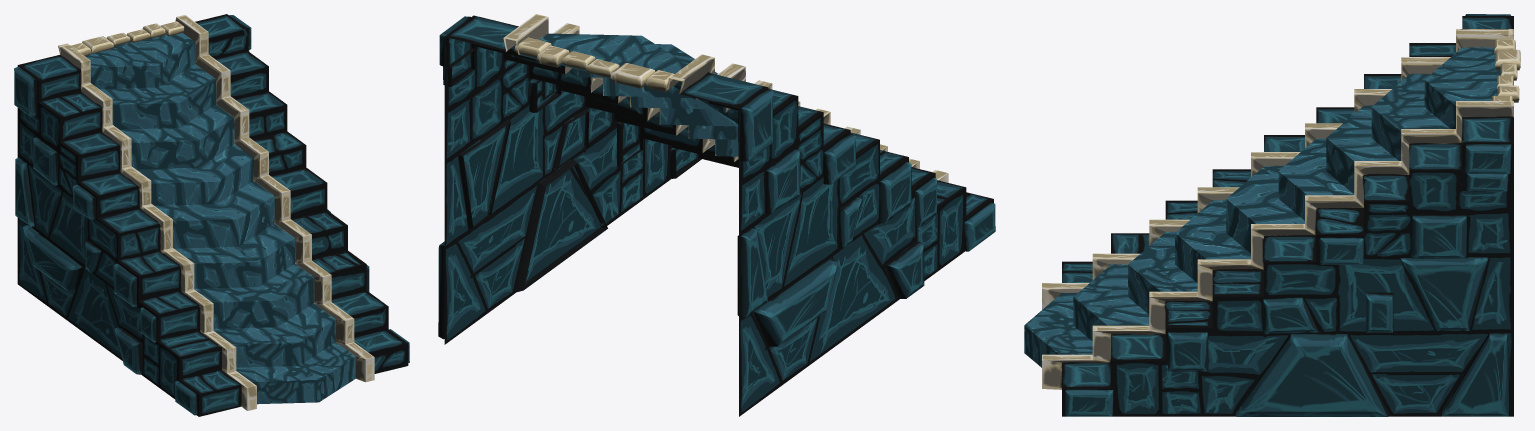
File: new_basic_stairs.fbx
The picture shows the model from 3 angles, left to right: view 1: azimuth 30°, elevation 25°; view 2: azimuth 150°, elevation 25°; view 3: azimuth 270°, elevation 25°; orthographic projection. The views are drawn at different scales.
Visible parts, largest first — view 1: new_basic_stairs; view 2: new_basic_stairs; view 3: new_basic_stairs.
Boxes of the visible parts, x1,y1,x2,y2 form: new_basic_stairs: [14, 14, 409, 416]; new_basic_stairs: [438, 14, 995, 416]; new_basic_stairs: [1024, 14, 1520, 416].
Size of the model in its own units: 2.15 by 2.09 by 3.29.
1 material, 1 textured.
